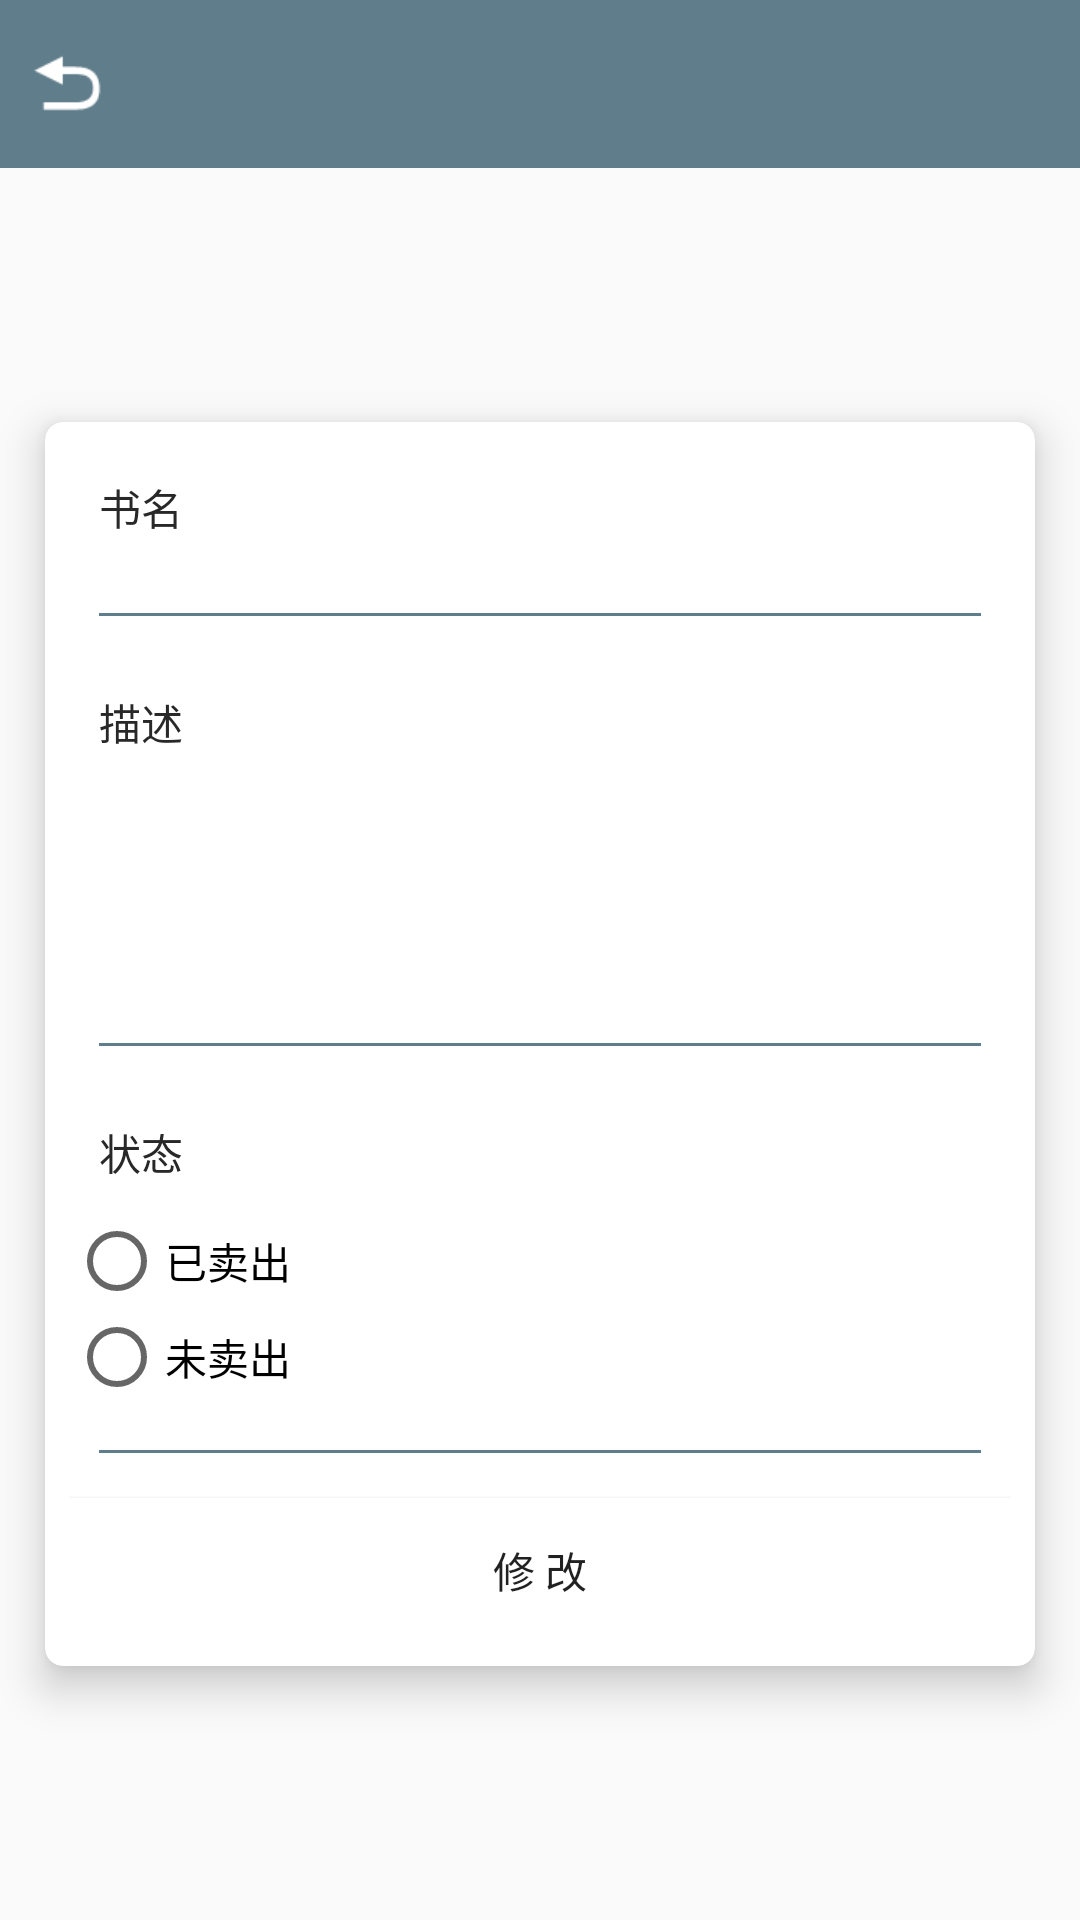

Locate icon controls on the screen. Image size 1080px×1920px, boxes as (x1, y1, x2, y2).
back: (34, 56, 101, 111)
